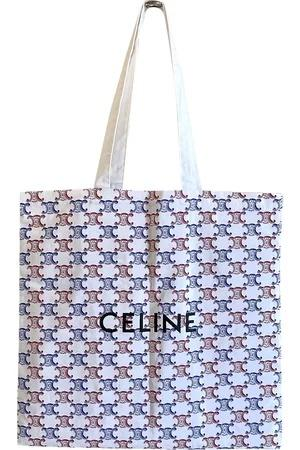CELINE: (99, 312, 196, 333)
